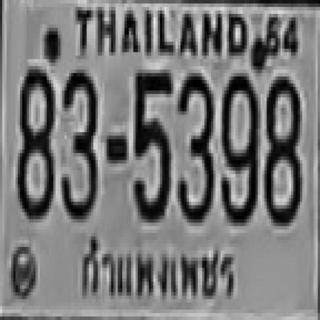N03: (59, 66, 97, 215), (176, 70, 211, 219)
N05: (131, 70, 171, 219)
N08: (262, 73, 300, 222), (16, 66, 53, 215)
N09: (220, 70, 258, 222)
P16: (70, 227, 237, 305)
